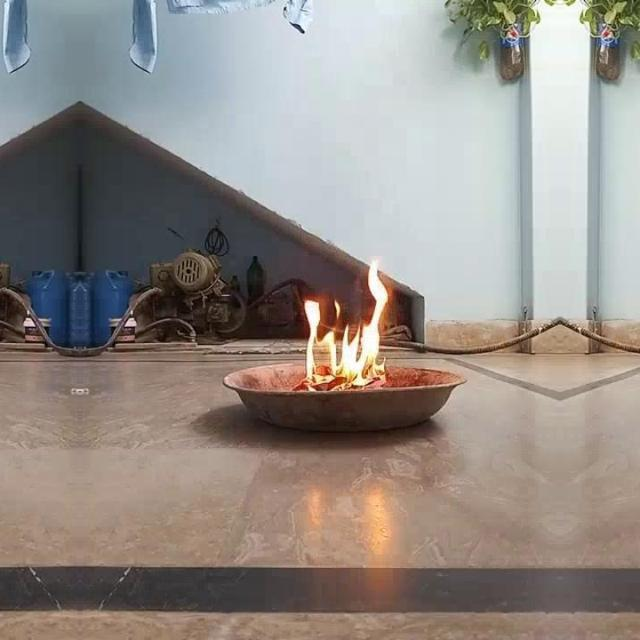smoke: (290, 257, 390, 391)
